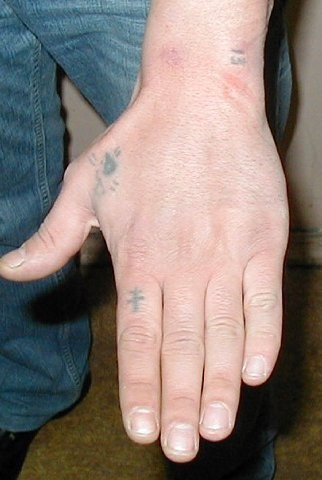tatu3_bukva: (93, 150, 123, 183)
tatu9_krest: (123, 286, 149, 313)
